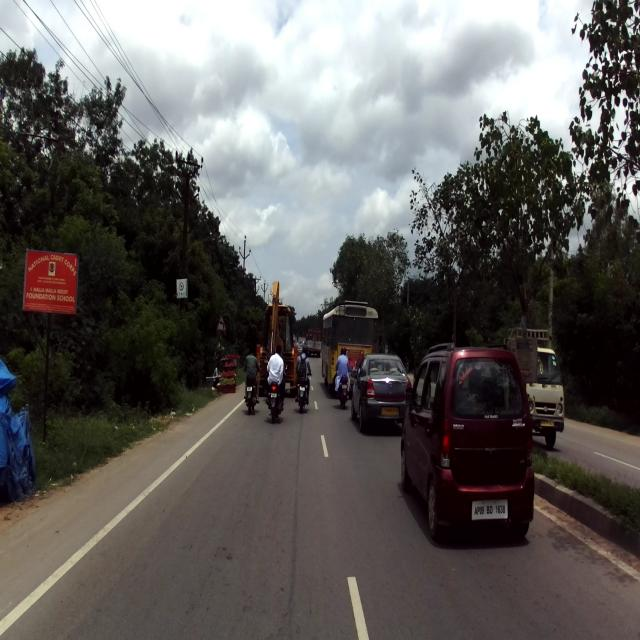car: (398, 341, 534, 543), (350, 353, 412, 433)
